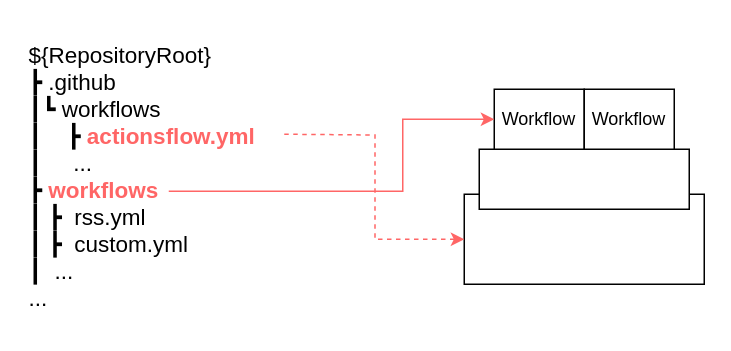
The diagram is 731 pixels wide and 351 high, and some of its shapes have lost their labels. The centre of each missing label's shape, as x and y in pixels:
Act: [583,178]
GitHub Actions: [583,238]
